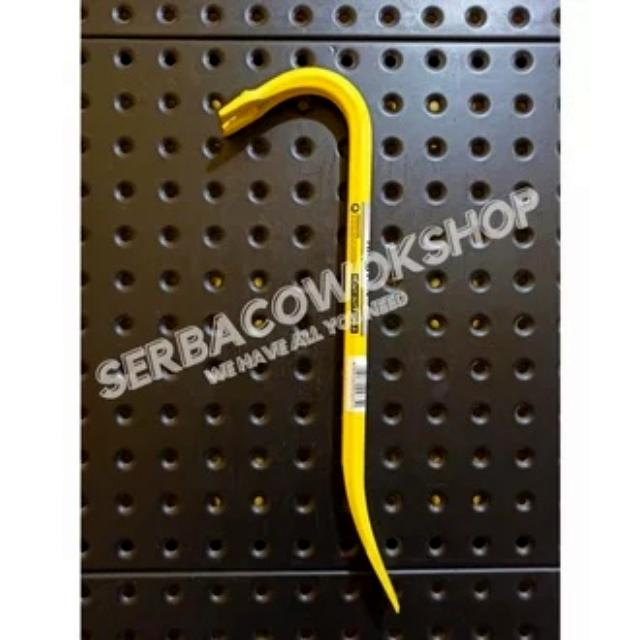crow bar: (213, 58, 410, 624)
